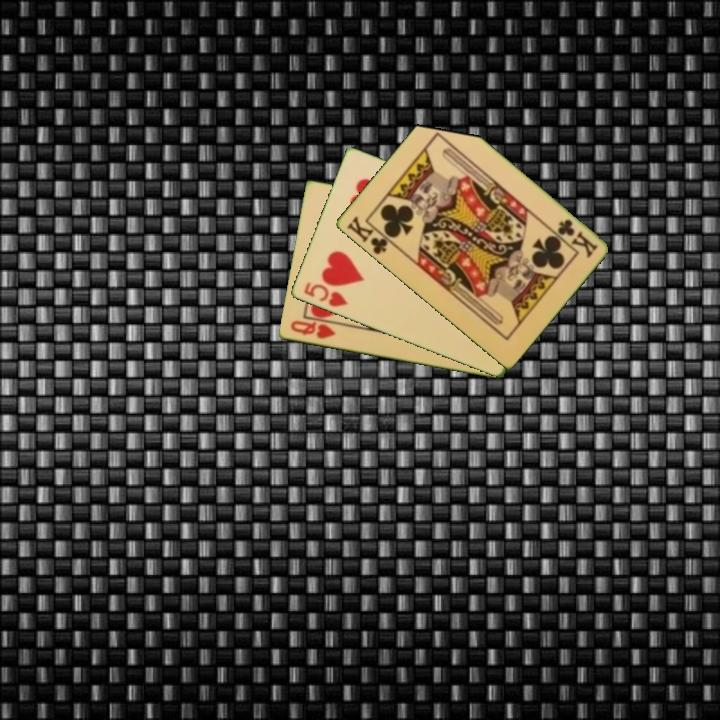5h: (300, 279, 351, 310)
Kc: (343, 213, 396, 258), (553, 216, 600, 261)
Qh: (287, 317, 338, 342)
